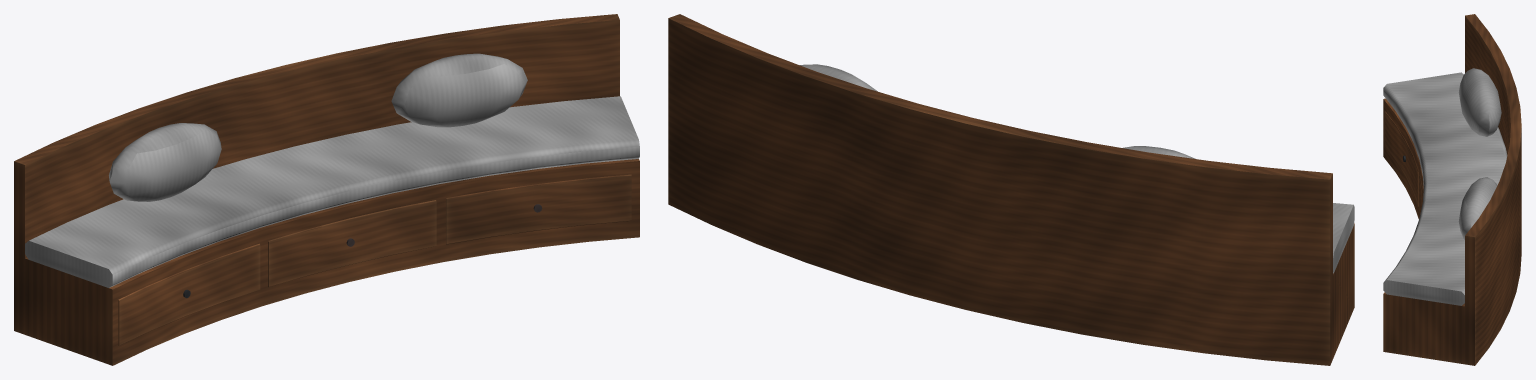
Rendered from Furn_WindowSeat_Arc.fbx.
3 renders of one model, left to right at view 1: azimuth 30°, elevation 25°; view 2: azimuth 150°, elevation 25°; view 3: azimuth 270°, elevation 25°, orthographic. The views are drawn at different scales.
Visible parts, largest first — view 1: Furn_WindowSeat_Arc; view 2: Furn_WindowSeat_Arc; view 3: Furn_WindowSeat_Arc.
Part boxes in pixels (bbox=[...]): Furn_WindowSeat_Arc: bbox=[14, 14, 639, 365]; Furn_WindowSeat_Arc: bbox=[668, 14, 1354, 365]; Furn_WindowSeat_Arc: bbox=[1383, 14, 1521, 365].
Bounding box in the file's own units: 2.98 × 0.8 × 0.7792.
3 materials, 3 textured.
